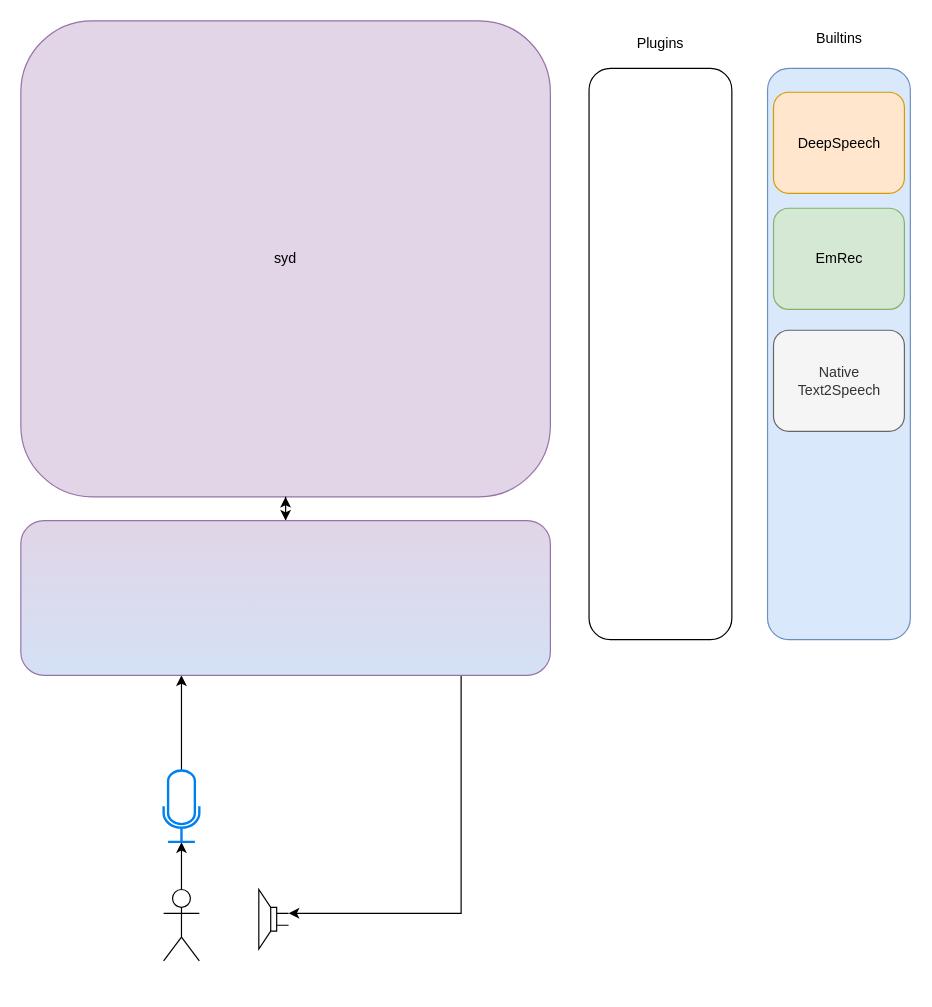
The diagram is 932 pixels wide and 1007 high, and some of its shapes have lost their labels. The shapes that lost their labels are listed below. From the top down, each one's box as (x1, y1, x2, y2) in pixels, then its label:
(20, 519, 550, 675): Browser UI
(162, 888, 199, 961): User
